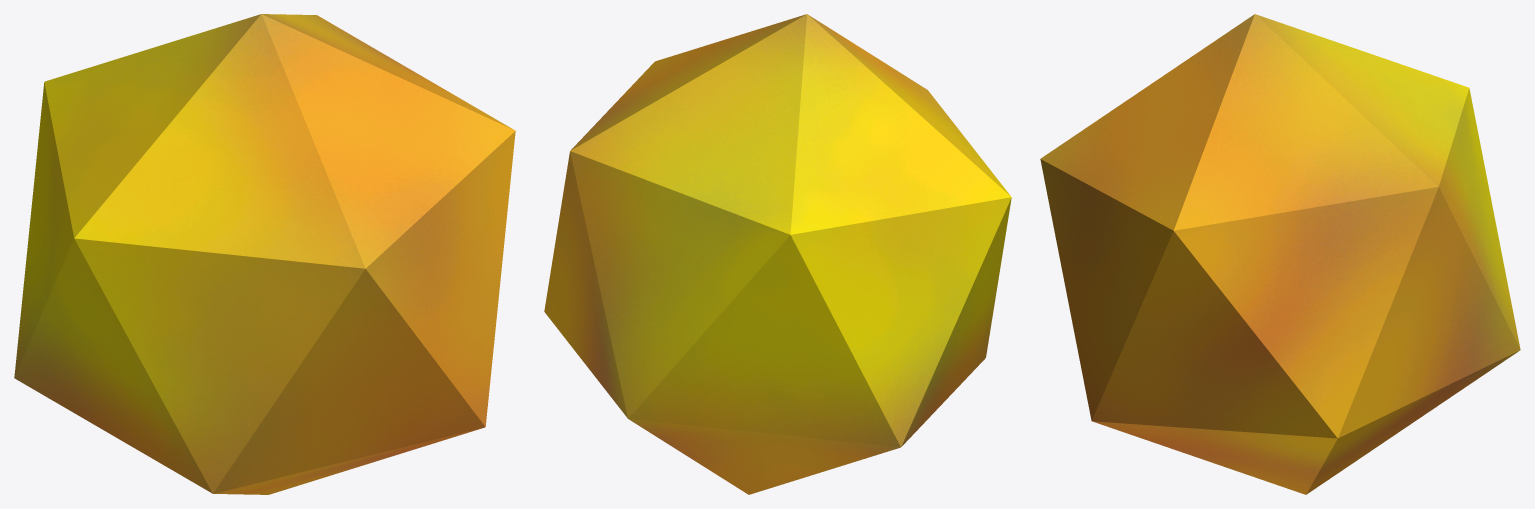
The model's file is icosahedron.fbx.
3 renders of one model, left to right at view 1: azimuth 30°, elevation 25°; view 2: azimuth 150°, elevation 25°; view 3: azimuth 270°, elevation 25°, orthographic. The views are drawn at different scales.
Visible parts, largest first — view 1: node_id3; view 2: node_id3; view 3: node_id3.
Part boxes in pixels (<box>): node_id3: <box>14,14,515,494</box>; node_id3: <box>544,14,1011,494</box>; node_id3: <box>1040,14,1520,494</box>.
Size of the model in its own units: 0.4717 by 0.5174 by 0.484.
1 material, 1 textured.
